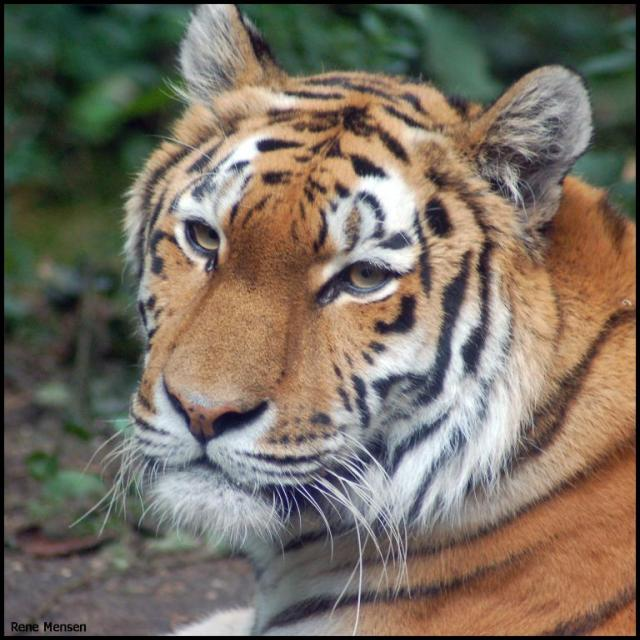Tiger: (68, 0, 640, 640)
